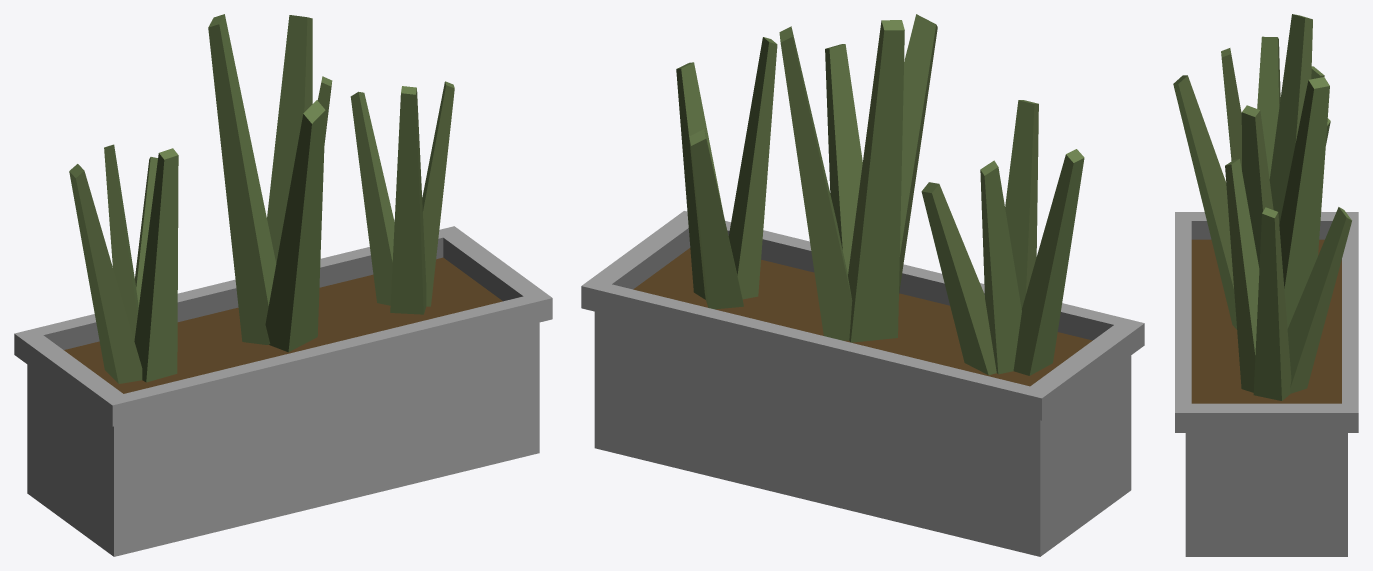
Rendered from Plant2.FBX.
The picture shows the model from 3 angles, left to right: view 1: azimuth 30°, elevation 25°; view 2: azimuth 150°, elevation 25°; view 3: azimuth 270°, elevation 25°; orthographic projection. The views are drawn at different scales.
Visible parts, largest first — view 1: SM_Plant_02; view 2: SM_Plant_02; view 3: SM_Plant_02.
Part boxes in pixels (x1=…): SM_Plant_02: x1=14, y1=14, x2=552, y2=556; SM_Plant_02: x1=581, y1=14, x2=1144, y2=556; SM_Plant_02: x1=1173, y1=14, x2=1358, y2=556.
Size of the model in its own units: 53.15 by 52.33 by 20.73.
